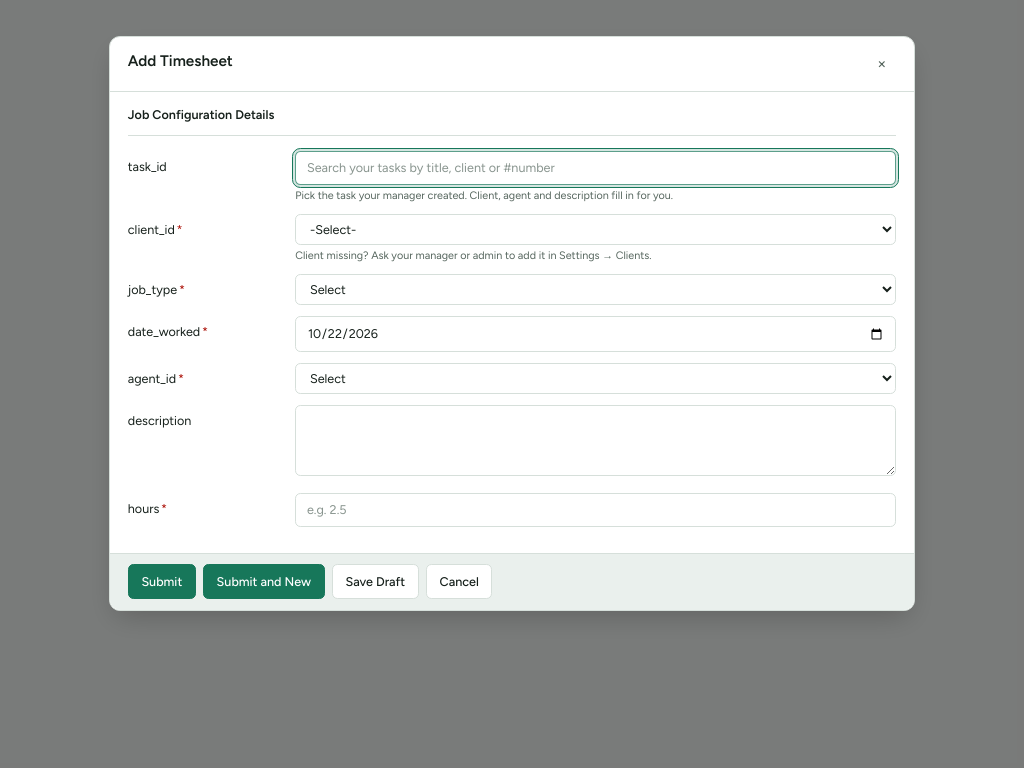
Test: people can search their tasks and change the pick
This screenshot has width=1024, height=768.
Focus the field with id "ts-task_id" at [596, 168], box [295,150,896,185]
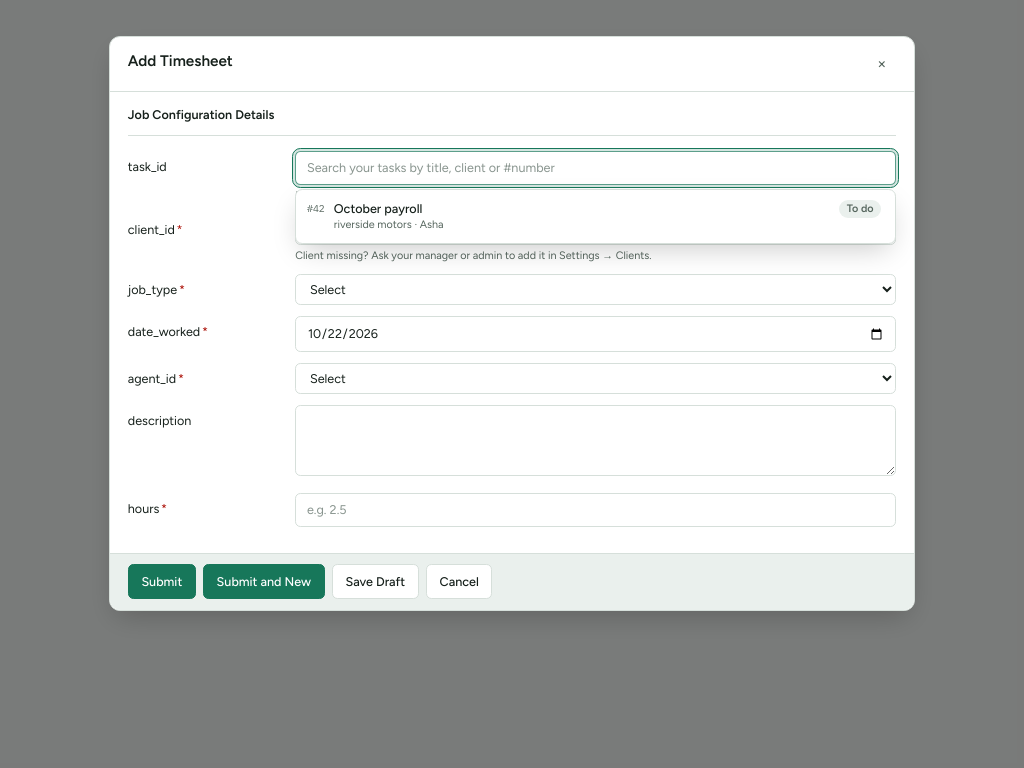
Click the option "#42 October payroll riverside motors · Asha To do" at [378, 209], box [296,193,895,240]
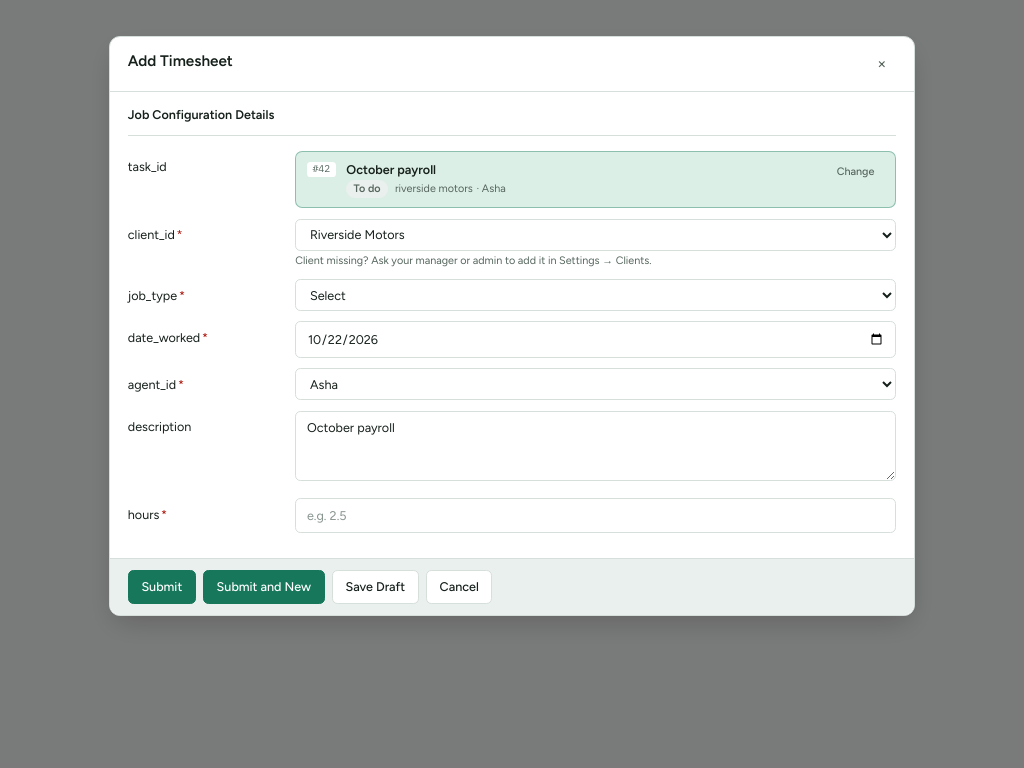
Expected: the dropdown with id "ts-client_id" shows "Riverside Motors", [295,219,896,250]
Click the button "Change" at [856, 172], box [827,160,884,184]
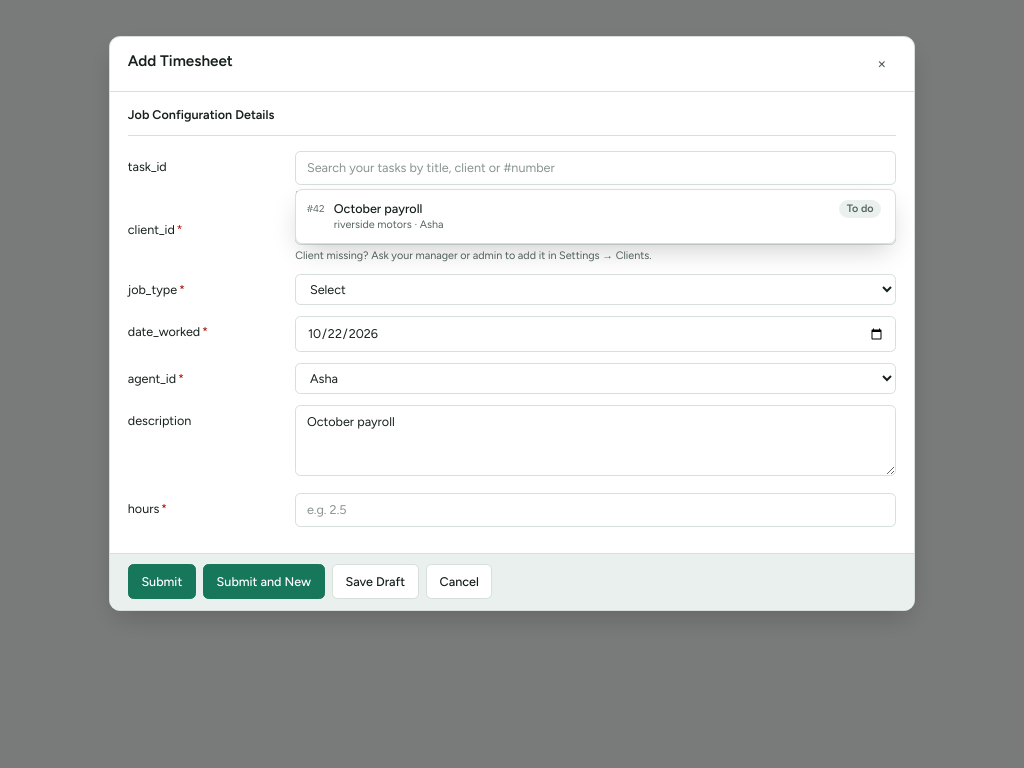
Expected: the field with id "ts-task_id" is shown, [295,150,896,185]
